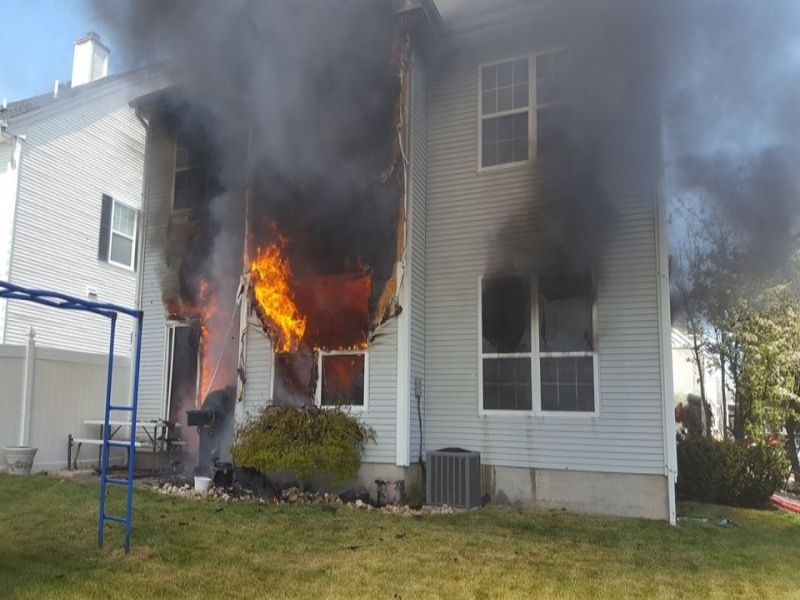smoke: (85, 1, 797, 247)
